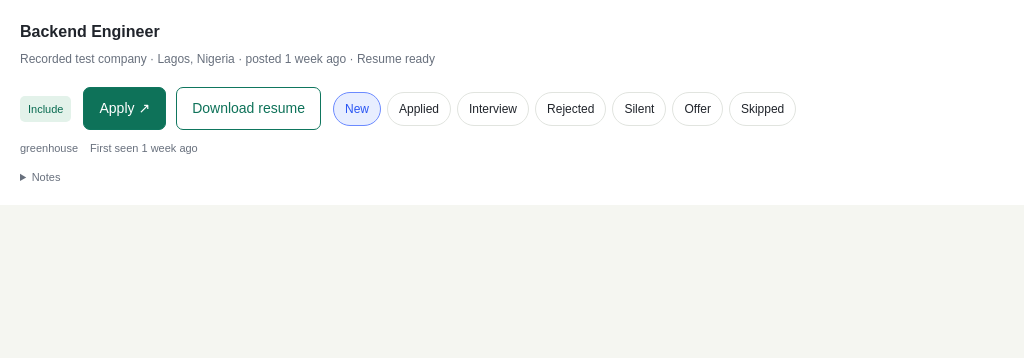
Scenario: JobCard status persistence › saves private notes without fabricating a status transition
Click the heading "Notes": (46, 177) top-left (32, 171), bottom-right (60, 183)
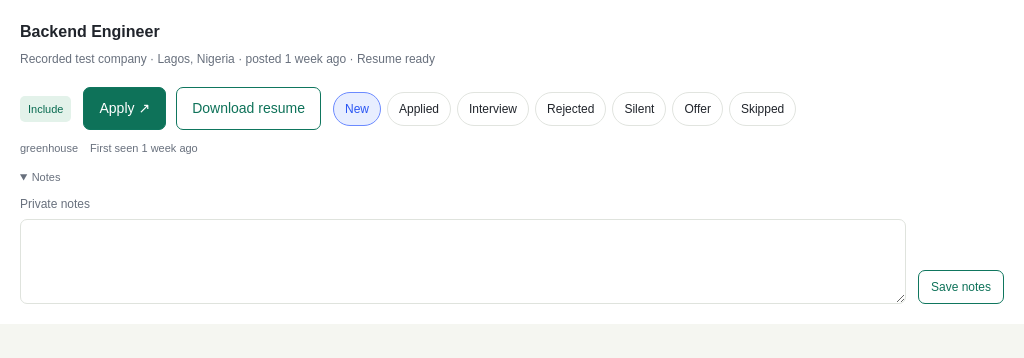
In the text box labelled "Private notes": (463, 262) top-left (20, 219), bottom-right (906, 304), type "Follow up Monday"
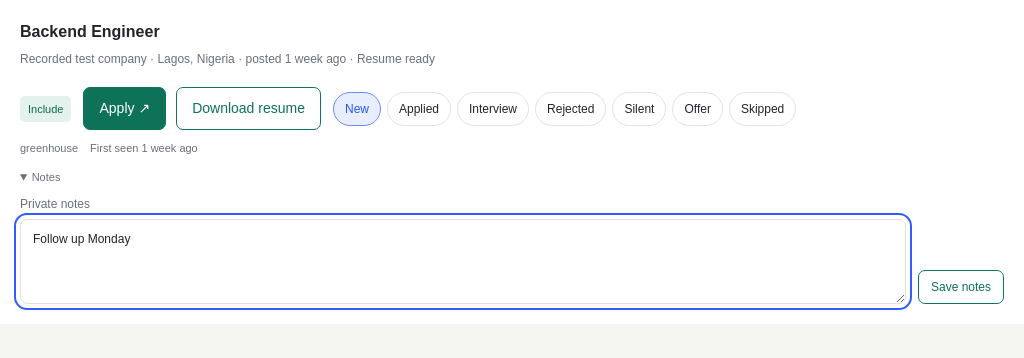
Click the button "Save notes": (961, 287) top-left (918, 270), bottom-right (1004, 304)
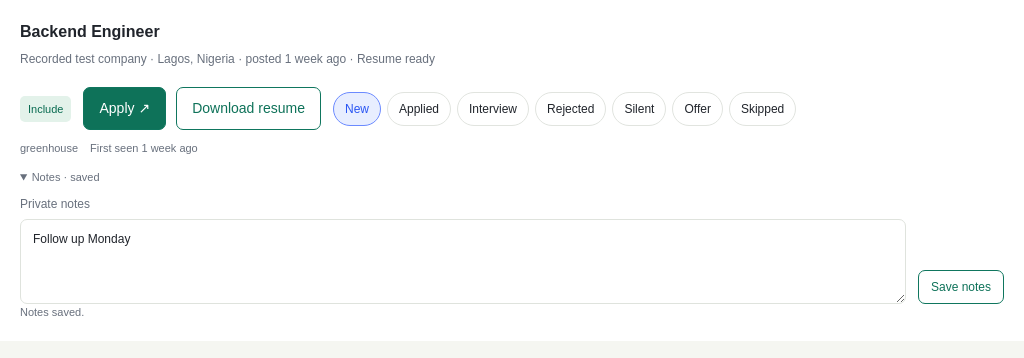
Expected: the message shows "Notes saved", top-left (20, 306), bottom-right (84, 318)
